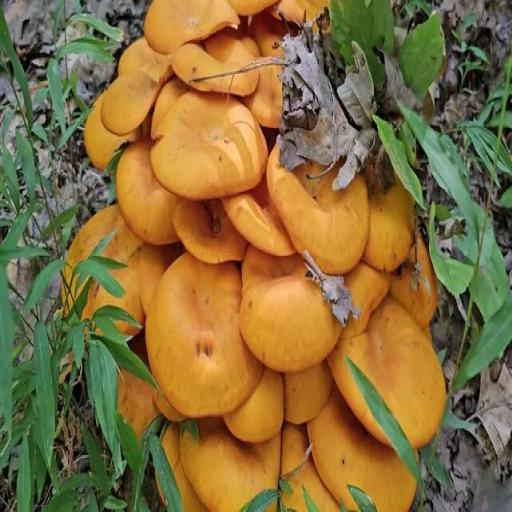Jack O Lantern Mushroom: (327, 289, 452, 457), (141, 249, 264, 416), (58, 200, 171, 348), (303, 380, 427, 512), (149, 72, 272, 204), (267, 123, 368, 275), (173, 389, 283, 512), (237, 239, 335, 375), (105, 32, 168, 128), (140, 0, 242, 53)
